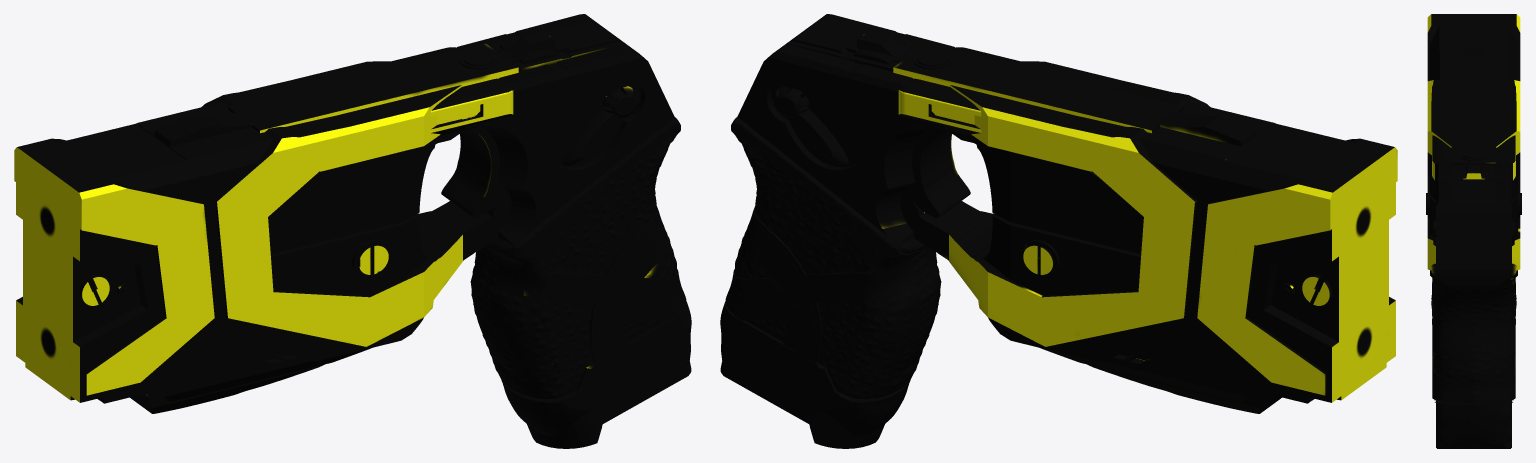
Rendered from TaserGun.fbx.
The picture shows the model from 3 angles, left to right: view 1: azimuth 30°, elevation 25°; view 2: azimuth 150°, elevation 25°; view 3: azimuth 270°, elevation 25°; orthographic projection. The views are drawn at different scales.
Parts seen in each view (by area): view 1: X2 Taser V3 Whole; view 2: X2 Taser V3 Whole; view 3: X2 Taser V3 Whole.
Part boxes in pixels (x1,y1,x2,y2): X2 Taser V3 Whole: (14,14,691,448); X2 Taser V3 Whole: (720,14,1397,448); X2 Taser V3 Whole: (1426,14,1521,448).
Bounding box in the file's own units: 19245 × 11854 × 3727.
